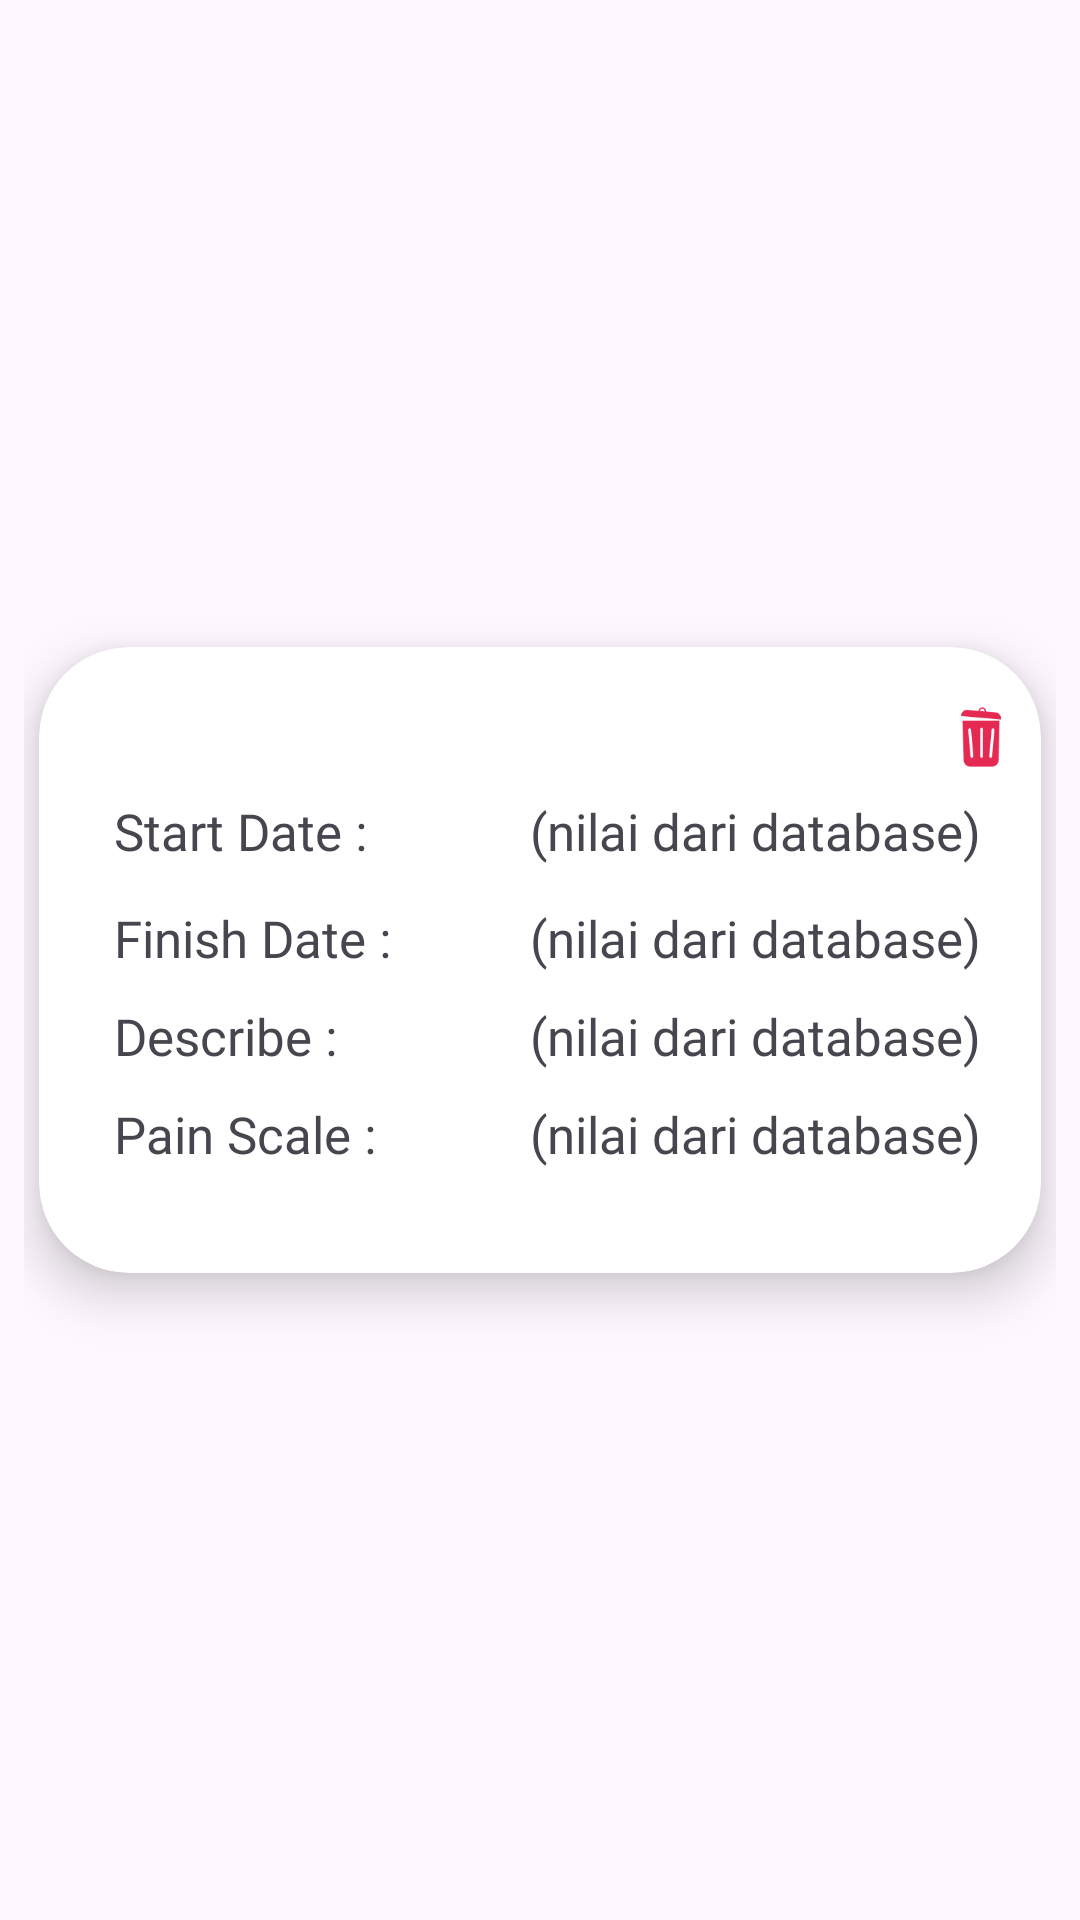

Icon click points for this 1080w x 1920h phone screenshot, format [x,y]:
delete: [981,737]
